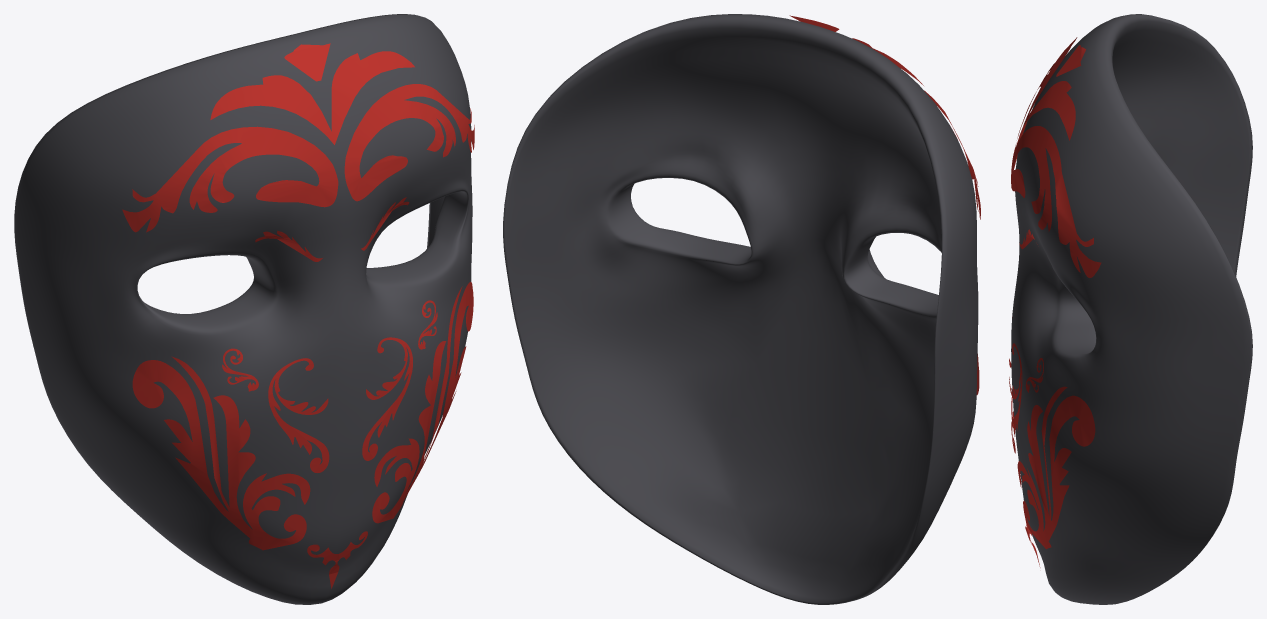
Rendered from mask-1.fbx.
The picture shows the model from 3 angles, left to right: view 1: azimuth 30°, elevation 25°; view 2: azimuth 150°, elevation 25°; view 3: azimuth 270°, elevation 25°; orthographic projection. The views are drawn at different scales.
Parts seen in each view (by area): view 1: mask-1; view 2: mask-1; view 3: mask-1.
Part boxes in pixels (x1,y1,x2,y2): mask-1: (14, 14, 474, 604); mask-1: (503, 14, 980, 604); mask-1: (1009, 14, 1252, 604).
Size of the model in its own units: 15.1 by 19.18 by 7.78.
